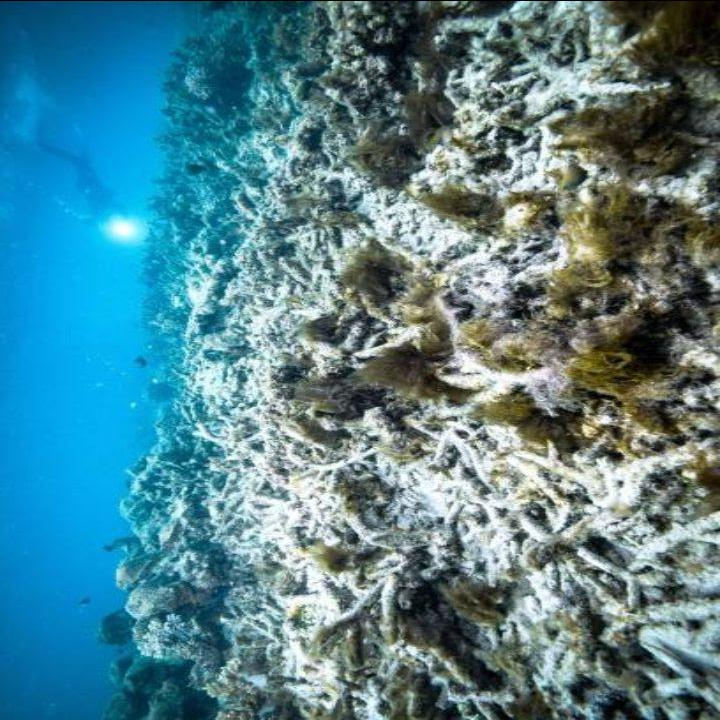Dead Coral: (76, 105, 589, 623)
